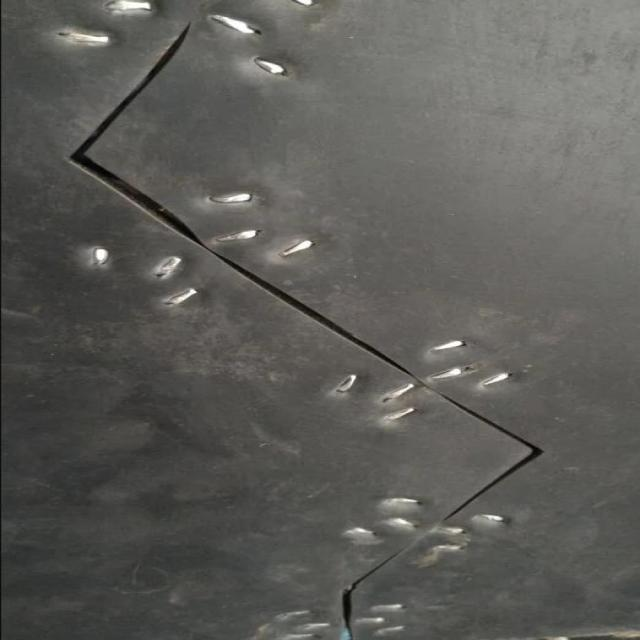Tear: (65, 18, 550, 640)
